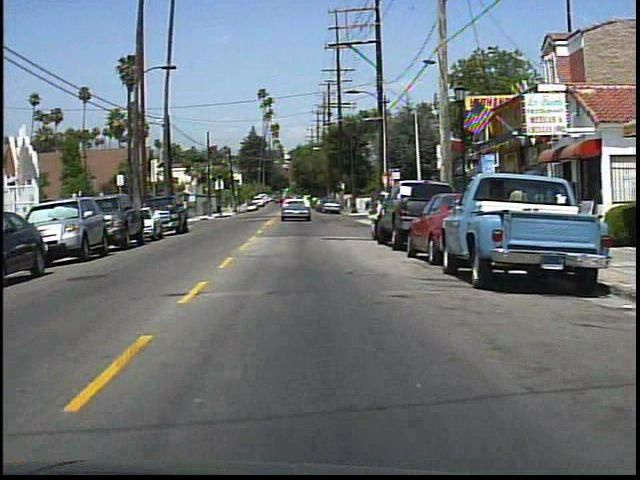person: (507, 180, 531, 234)
